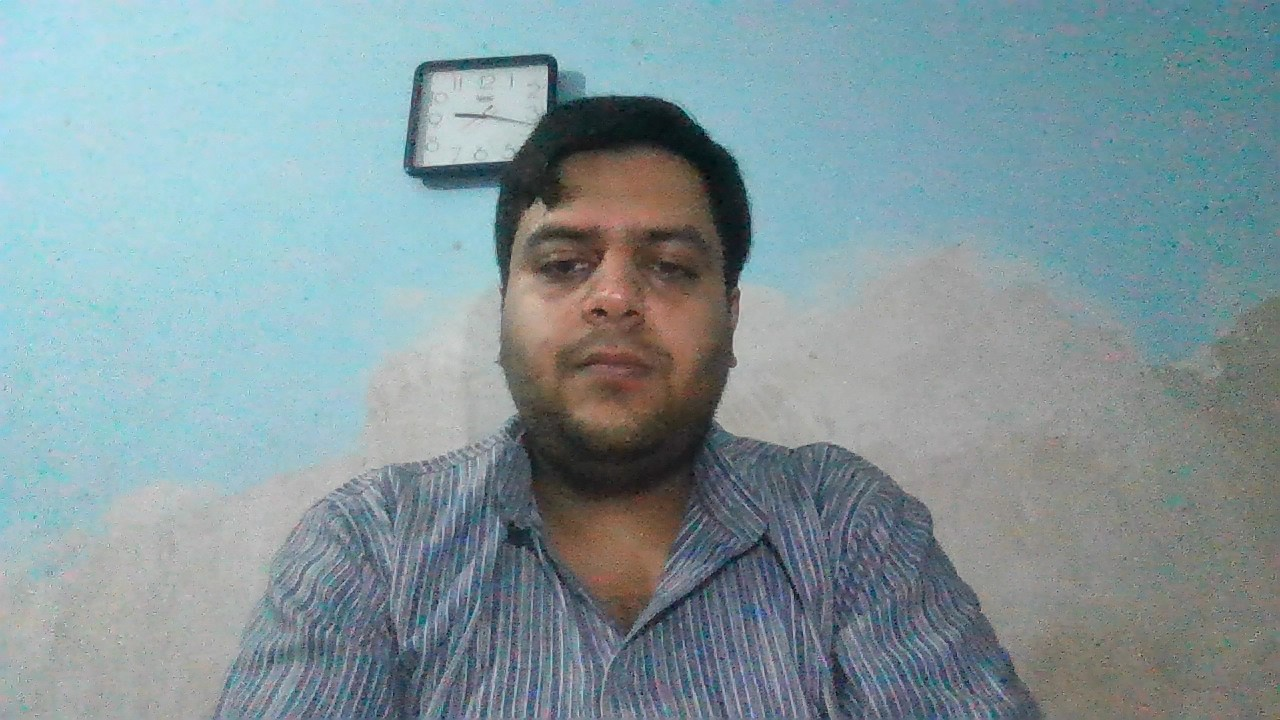No Mask: (499, 293, 741, 469)
